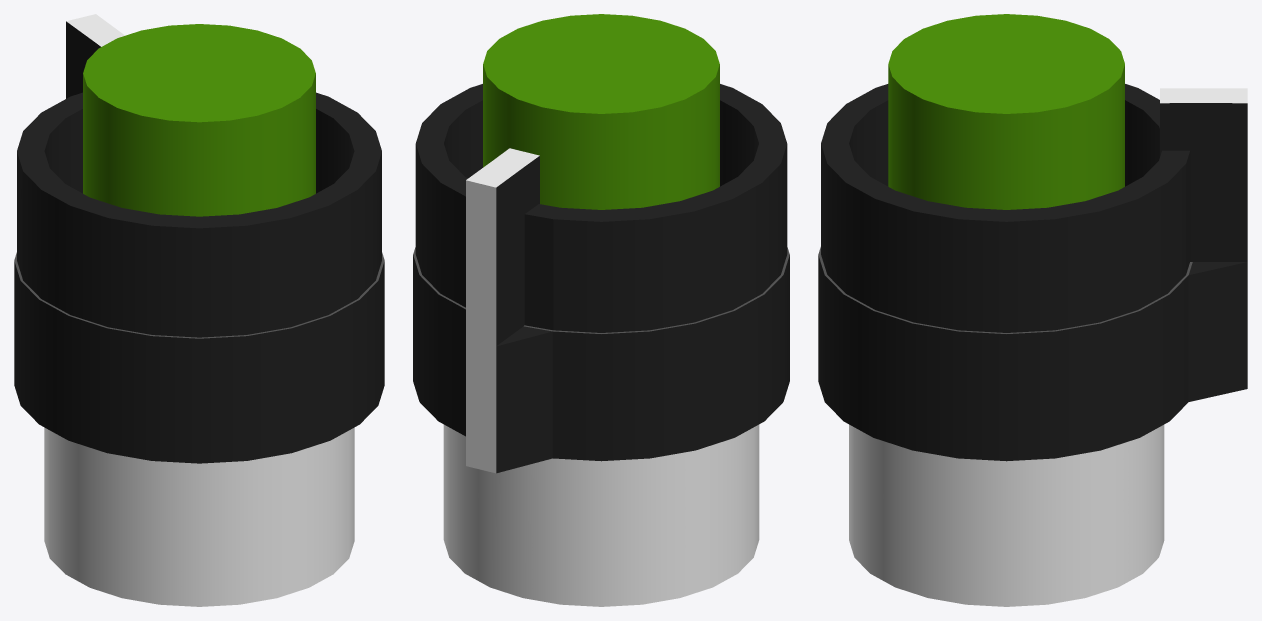
The model's file is FeedButton.fbx.
3 renders of one model, left to right at view 1: azimuth 30°, elevation 25°; view 2: azimuth 150°, elevation 25°; view 3: azimuth 270°, elevation 25°, orthographic.
Parts seen in each view (by area): view 1: Model; view 2: Model; view 3: Model.
Boxes of the visible parts, box(x1,y1,x2,y2) form: Model: box(14, 14, 384, 606); Model: box(413, 14, 789, 606); Model: box(818, 14, 1247, 606).
Size of the model in its own units: 21.51 by 30 by 24.51.
